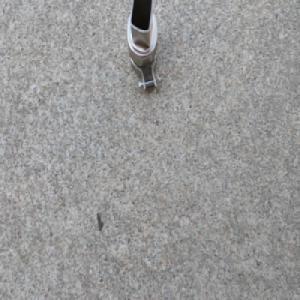MetalPart: (123, 0, 163, 99)
